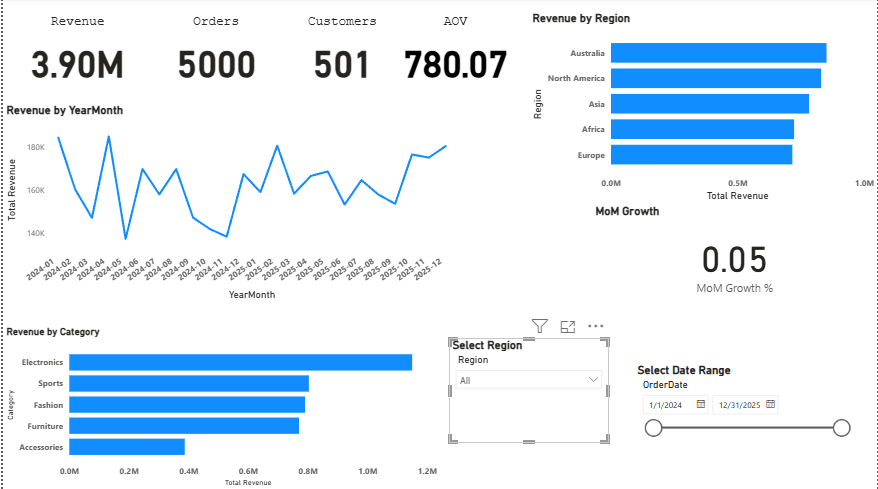

Layout of this report page (visuals, bound fields, positions):
{"tool":"powerbi","page":{"name":"Revenue Overview","canvas":[1280,720],"ordinal":0},"visuals":[{"type":"card","title":"Revenue","fields":{"Values":["Ecommerce_Sales_Dataset_PowerBI.Total Revenue"]},"box":[0,23.5,218.1,112.4],"z":0},{"type":"card","title":"Orders","fields":{"Values":["Ecommerce_Sales_Dataset_PowerBI.Total Orders"]},"box":[203,23.5,216.4,112.4],"z":1000},{"type":"card","title":"Customers","fields":{"Values":["Ecommerce_Sales_Dataset_PowerBI.Total Customers"]},"box":[419.4,23.5,152.7,112.4],"z":2000},{"type":"card","title":"AOV","fields":{"Values":["Ecommerce_Sales_Dataset_PowerBI.AOV"]},"box":[572.1,23.5,179.5,112.4],"z":3000},{"type":"lineChart","title":" Revenue by YearMonth","fields":{"Category":["Ecommerce_Sales_Dataset_PowerBI.YearMonth"],"Y":["Ecommerce_Sales_Dataset_PowerBI.Total Revenue"]},"box":[0,154.3,662.6,293.6],"z":4000},{"type":"clusteredBarChart","title":" Revenue by Category","fields":{"Category":["Ecommerce_Sales_Dataset_PowerBI.Category"],"Y":["Ecommerce_Sales_Dataset_PowerBI.Total Revenue"]},"box":[0,479.8,640.8,239.9],"z":5000},{"type":"clusteredBarChart","title":"Revenue by Region","fields":{"Category":["Ecommerce_Sales_Dataset_PowerBI.Region"],"Y":["Ecommerce_Sales_Dataset_PowerBI.Total Revenue"]},"box":[769.8,178.5,510.7,282.4],"z":6000},{"type":"slicer","title":"Select Date Range","fields":{"Values":["Ecommerce_Sales_Dataset_PowerBI.OrderDate"]},"box":[954.1,502,324.9,172.7],"z":7000},{"type":"slicer","title":"Select Region","fields":{"Values":["Ecommerce_Sales_Dataset_PowerBI.Region"]},"box":[695.1,522.4,234.1,153.7],"z":8000},{"type":"card","title":"MoM Growth","fields":{"Values":["Ecommerce_Sales_Dataset_PowerBI.MoM Growth %"]},"box":[812.2,2.9,250.2,152.2],"z":9000}]}

Visuals, with their boxes in screenshot pixels (x1, y1, x2, y2), scaled from the page's 1280x720 canvas onto the 878x489 screenshot:
"Revenue" card: 0,16,150,92
"Orders" card: 139,16,288,92
"Customers" card: 288,16,392,92
"AOV" card: 392,16,516,92
" Revenue by YearMonth" lineChart: 0,105,455,304
" Revenue by Category" clusteredBarChart: 0,326,440,488
"Revenue by Region" clusteredBarChart: 528,121,877,313
"Select Date Range" slicer: 654,341,877,458
"Select Region" slicer: 477,355,637,459
"MoM Growth" card: 557,2,729,105
